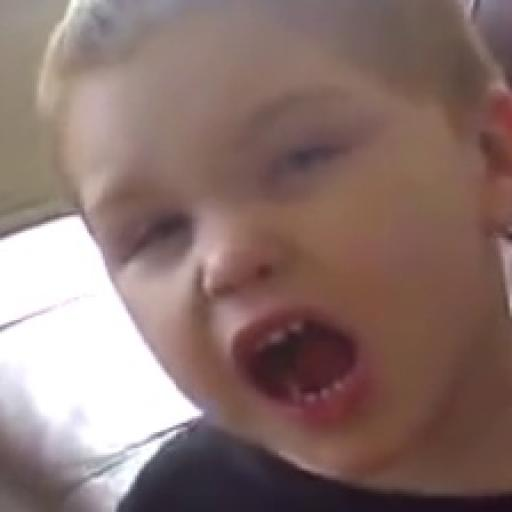Autism: (65, 27, 512, 512)
